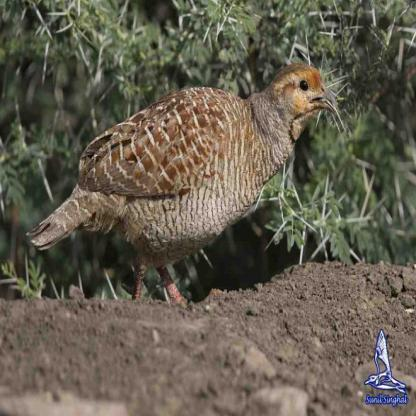Burung: (26, 61, 336, 306)
